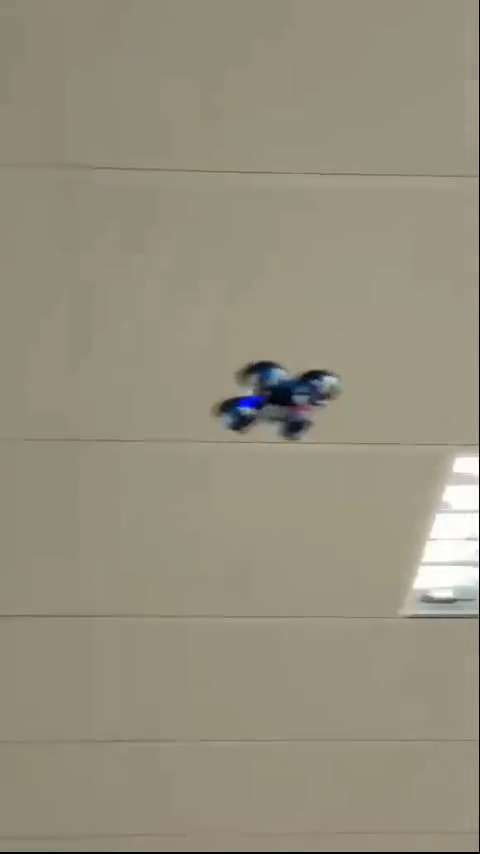drone: (218, 361, 336, 440)
